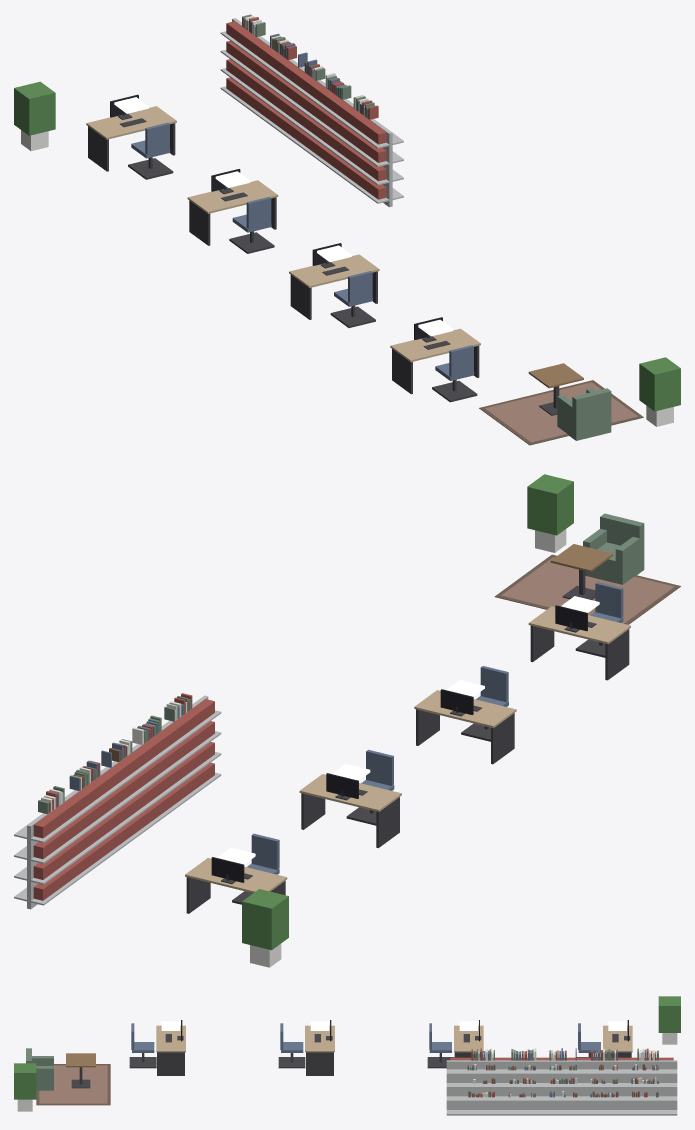
File: fine-s1.glb
3 views of the same model, one above another, from view 1: azimuth 30°, elevation 25°; view 2: azimuth 150°, elevation 25°; view 3: azimuth 270°, elevation 25° (orthographic). The views are drawn at different scales.
Parts seen in each view (by area): view 1: soft-s1, shelving.005, shelving.001, shelving.002, shelving.004, office-desk-real.001, office-desk-real.002, office-desk-real.003, office-desk-real.000, plant-medium.000, plant-medium.001, sofa.000 (+6 smaller); view 2: soft-s1, shelving.001, office-desk-real.003, shelving.003, office-desk-real.001, shelving.005, office-desk-real.002, shelving.002, shelving.004, sofa.000, plant-medium.000, plant-medium.001 (+6 smaller); view 3: soft-s1, shelving.001, shelving.005, shelving.002, shelving.003, shelving.004, office-desk-real.002, office-desk-real.003, plant-medium.000, plant-medium.001, office-desk-real.001, office-desk-real.000 (+6 smaller).
Boxes of the visible parts, left/top/right/bottom form: soft-s1: left=242, top=14, right=643, bottom=445; shelving.005: left=332, top=100, right=403, bottom=207; shelving.001: left=220, top=18, right=274, bottom=121; shelving.002: left=248, top=38, right=304, bottom=142; shelving.004: left=304, top=80, right=375, bottom=181; office-desk-real.001: left=187, top=169, right=278, bottom=245; office-desk-real.002: left=289, top=243, right=379, bottom=319; office-desk-real.003: left=390, top=317, right=480, bottom=394; office-desk-real.000: left=86, top=94, right=176, bottom=171; plant-medium.000: left=639, top=357, right=680, bottom=426; plant-medium.001: left=14, top=81, right=55, bottom=151; sofa.000: left=557, top=388, right=611, bottom=440; soft-s1: left=38, top=554, right=680, bottom=814; shelving.001: left=14, top=789, right=95, bottom=909; office-desk-real.003: left=528, top=605, right=630, bottom=680; shelving.003: left=100, top=743, right=158, bottom=858; office-desk-real.001: left=299, top=773, right=401, bottom=848; shelving.005: left=160, top=695, right=221, bottom=812; office-desk-real.002: left=414, top=689, right=516, bottom=764; shelving.002: left=65, top=766, right=126, bottom=881; shelving.004: left=112, top=720, right=189, bottom=834; sofa.000: left=583, top=513, right=644, bottom=584; plant-medium.000: left=527, top=474, right=573, bottom=552; plant-medium.001: left=242, top=889, right=288, bottom=967; soft-s1: left=36, top=1048, right=658, bottom=1105; shelving.001: left=610, top=1057, right=677, bottom=1115; shelving.005: left=446, top=1057, right=513, bottom=1115; shelving.002: left=569, top=1057, right=636, bottom=1115; shelving.003: left=528, top=1057, right=595, bottom=1115; shelving.004: left=487, top=1057, right=554, bottom=1115; office-desk-real.002: left=305, top=1020, right=334, bottom=1075; office-desk-real.003: left=156, top=1020, right=185, bottom=1075; plant-medium.000: left=14, top=1063, right=36, bottom=1111; plant-medium.001: left=658, top=996, right=680, bottom=1044; office-desk-real.001: left=454, top=1020, right=483, bottom=1057; office-desk-real.000: left=603, top=1020, right=632, bottom=1057.
Size of the model in its own units: 5.25 by 1.93 by 17.92.
